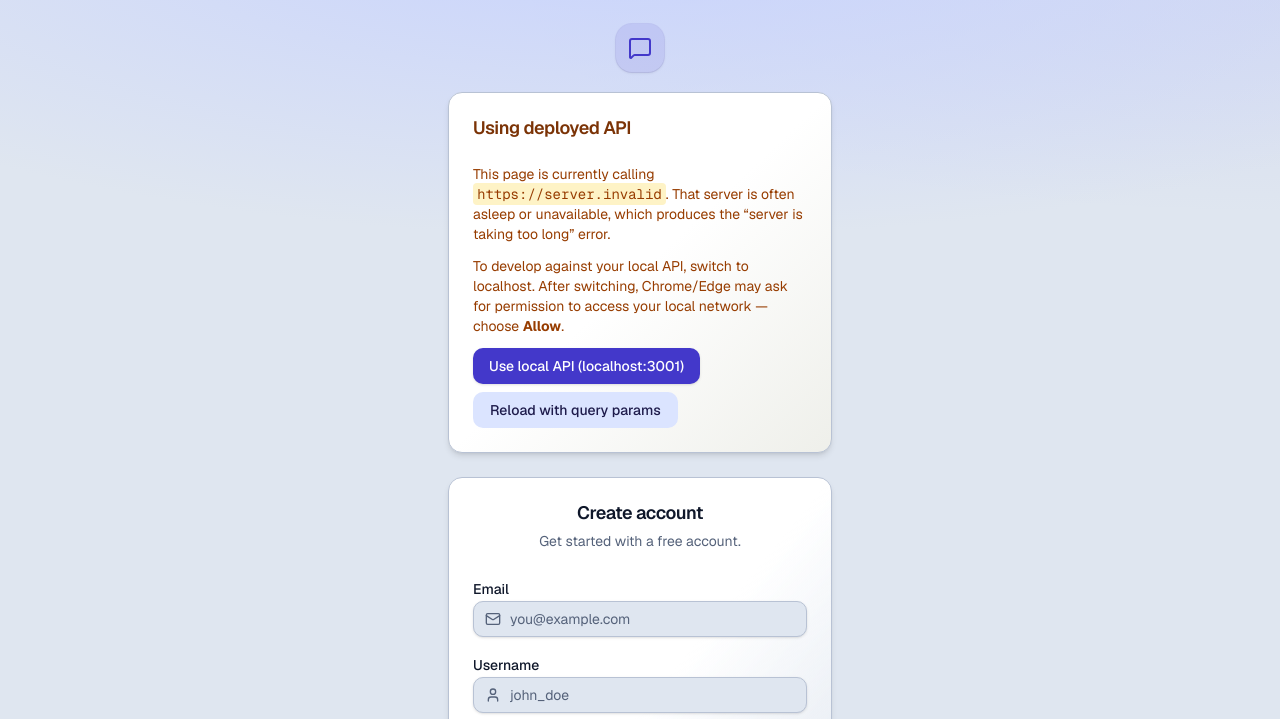
it: RegisterPage › shows check-your-email state on successful registration and does not store tokens or redirect
The image size is (1280, 719).
Step 1. Type "  new@example.com  " into the field labelled "Email" → (640, 619), box 473,601 -> 807,637
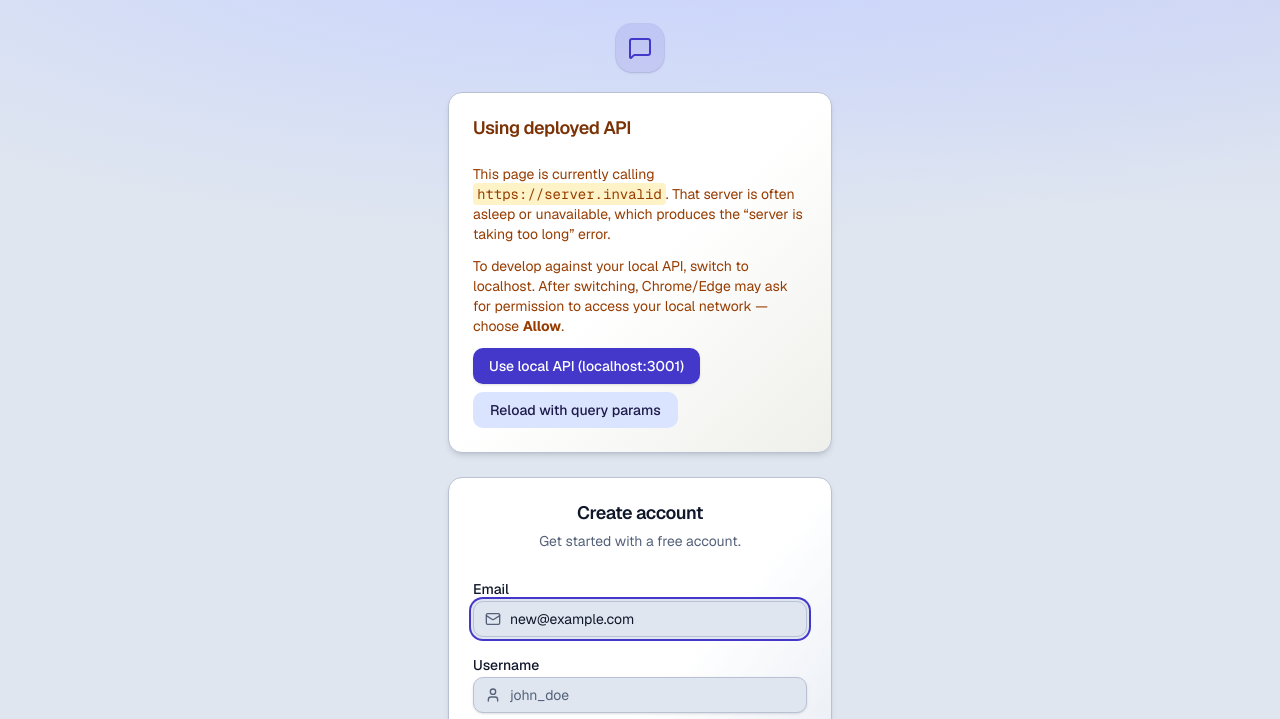
Step 2. Type "  bob  " into the field labelled "Username" → (640, 695), box 473,677 -> 807,713
(page scrolled)
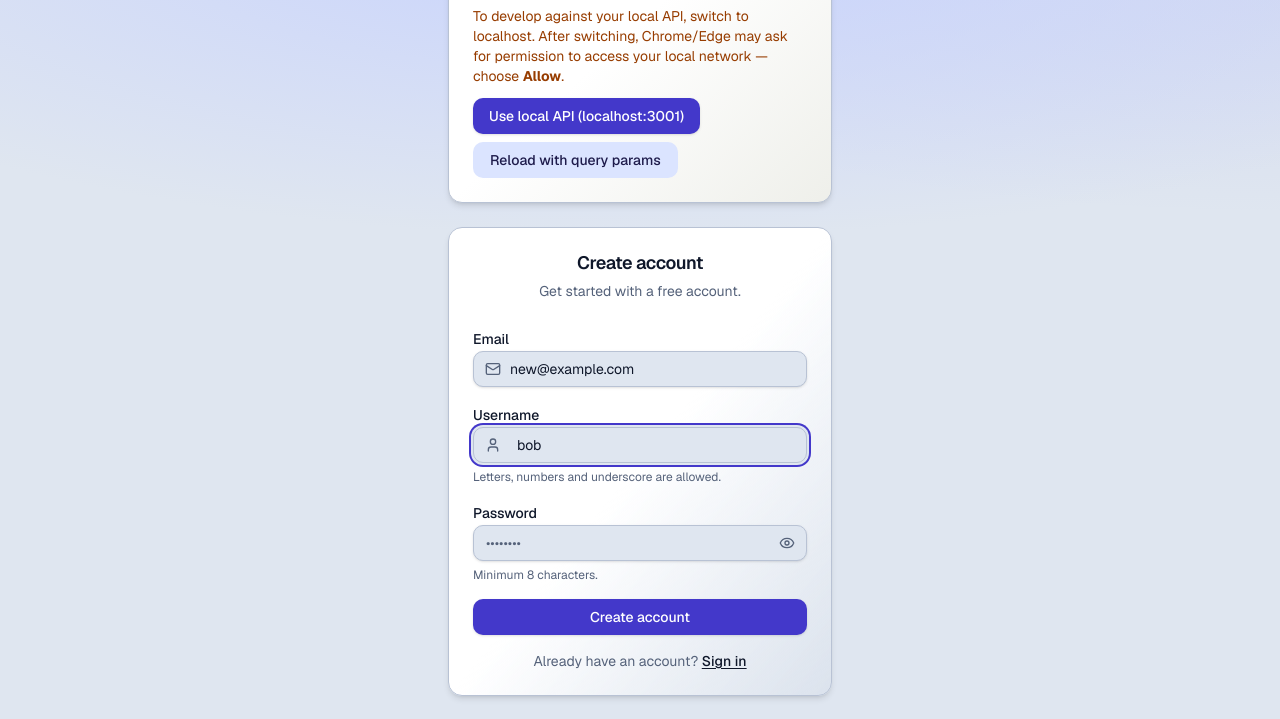
Step 3. Type "securepass" into the password field labelled "Password" → (640, 543), box 473,525 -> 807,561
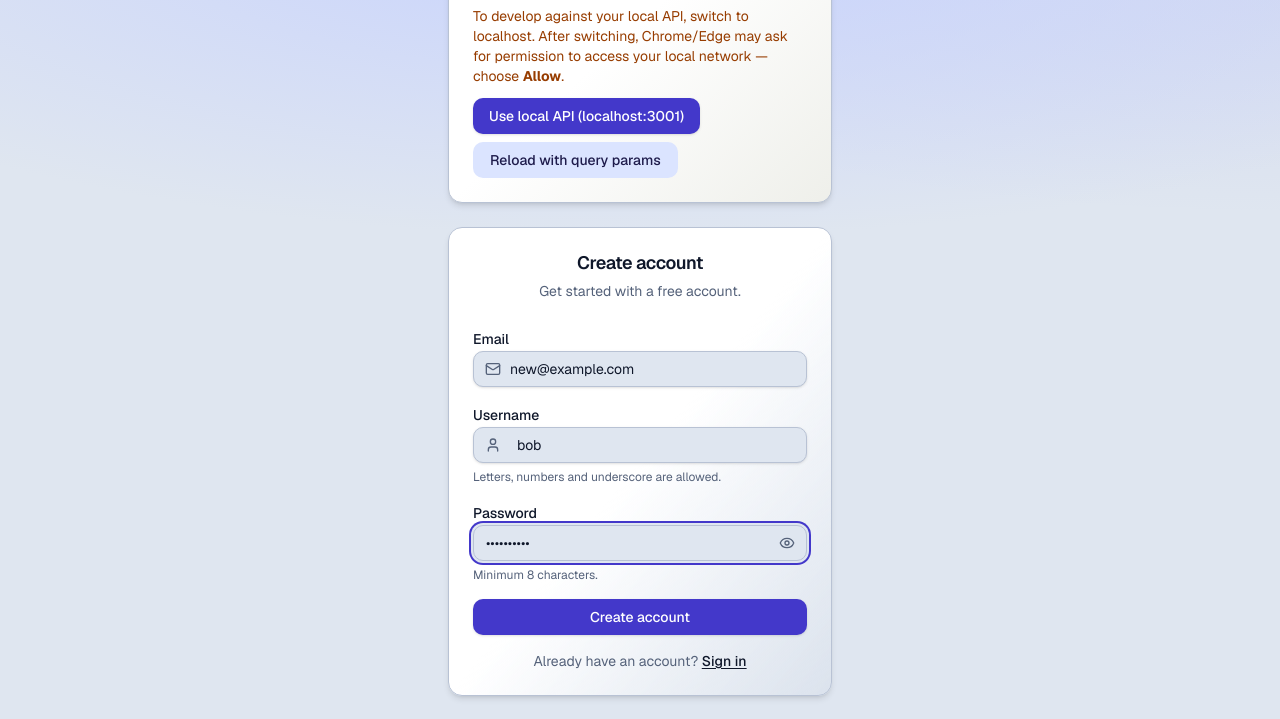
Step 4. Click the button "Create account" → (640, 617), box 473,599 -> 807,635
(page scrolled)
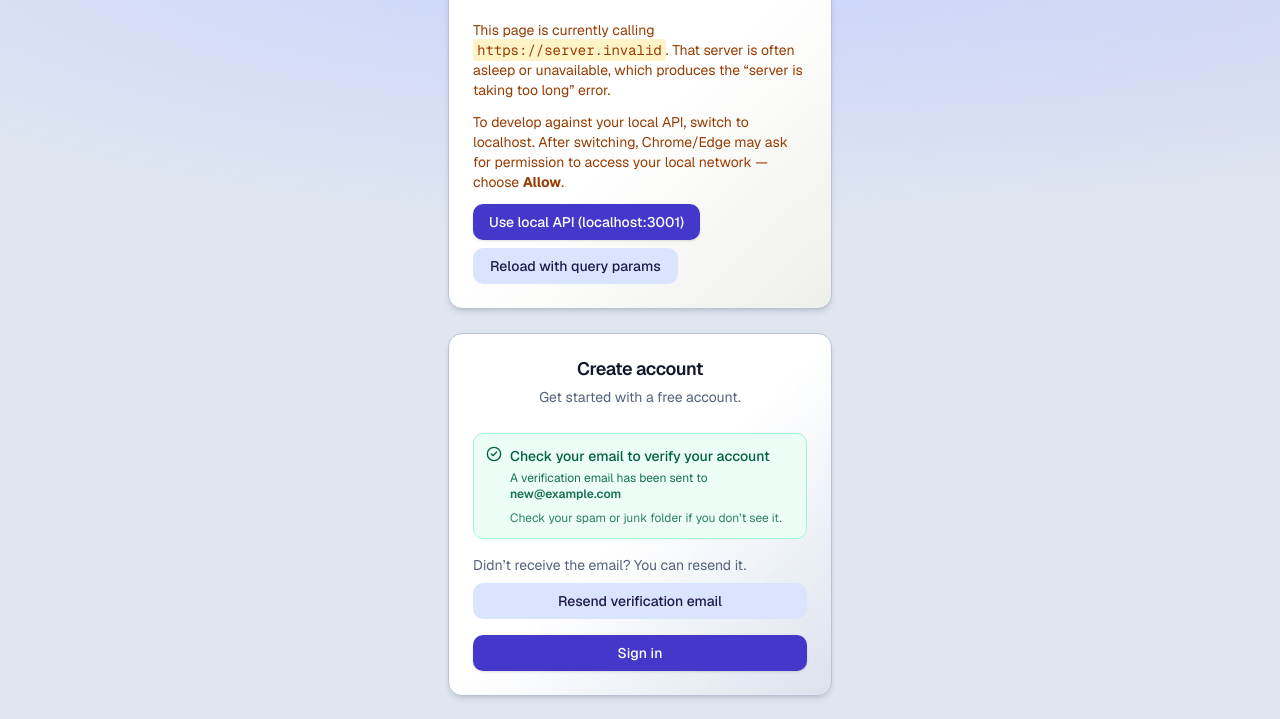
Now the text "Check your email to verify your account" is shown, box 510,446 -> 794,466
Now the text "new@example.com" is shown, box 510,486 -> 621,502
